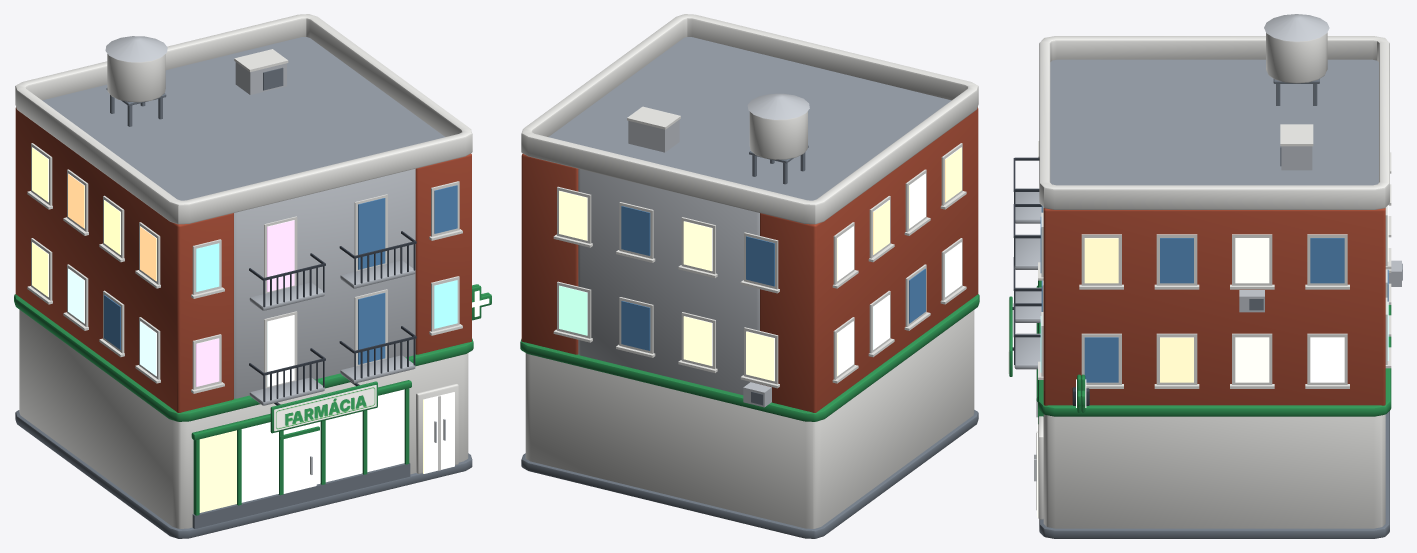
Rendered from predio_farmacia.glb.
The picture shows the model from 3 angles, left to right: view 1: azimuth 30°, elevation 25°; view 2: azimuth 150°, elevation 25°; view 3: azimuth 270°, elevation 25°; orthographic projection. The views are drawn at different scales.
Visible parts, largest first — view 1: predio_farmacia; view 2: predio_farmacia; view 3: predio_farmacia.
Part boxes in pixels (box(x1,y1,x2,y2)): predio_farmacia: box(14, 14, 491, 538); predio_farmacia: box(520, 14, 979, 538); predio_farmacia: box(1008, 14, 1402, 538).
Bounding box in the file's own units: 11.81 × 13.25 × 11.52.
Materials: 10 (2 with a texture image).
